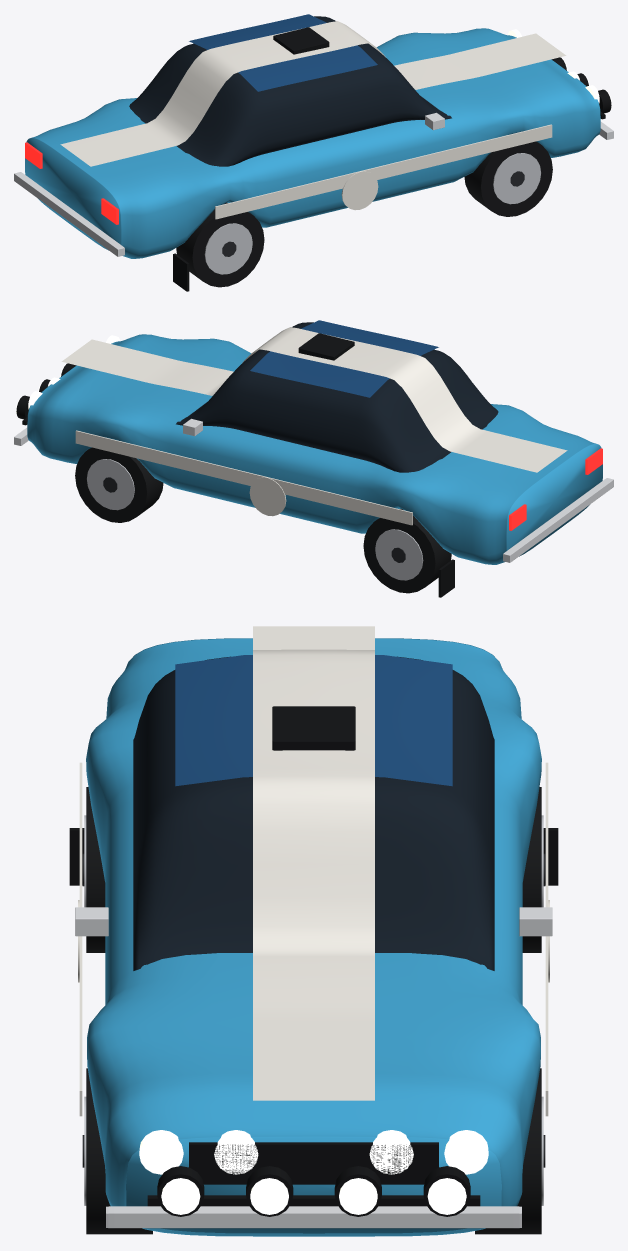
The model's file is car-3.glb.
3 views of the same model, one above another, from view 1: azimuth 30°, elevation 25°; view 2: azimuth 150°, elevation 25°; view 3: azimuth 270°, elevation 25° (orthographic). The views are drawn at different scales.
Visible parts, largest first — view 1: car-3; view 2: car-3; view 3: car-3.
Part boxes in pixels (bbox=[...]): car-3: bbox=[14, 14, 613, 291]; car-3: bbox=[14, 320, 613, 597]; car-3: bbox=[69, 626, 558, 1236].
Bounding box in the file's own units: 3.6 × 1.18 × 1.5.
